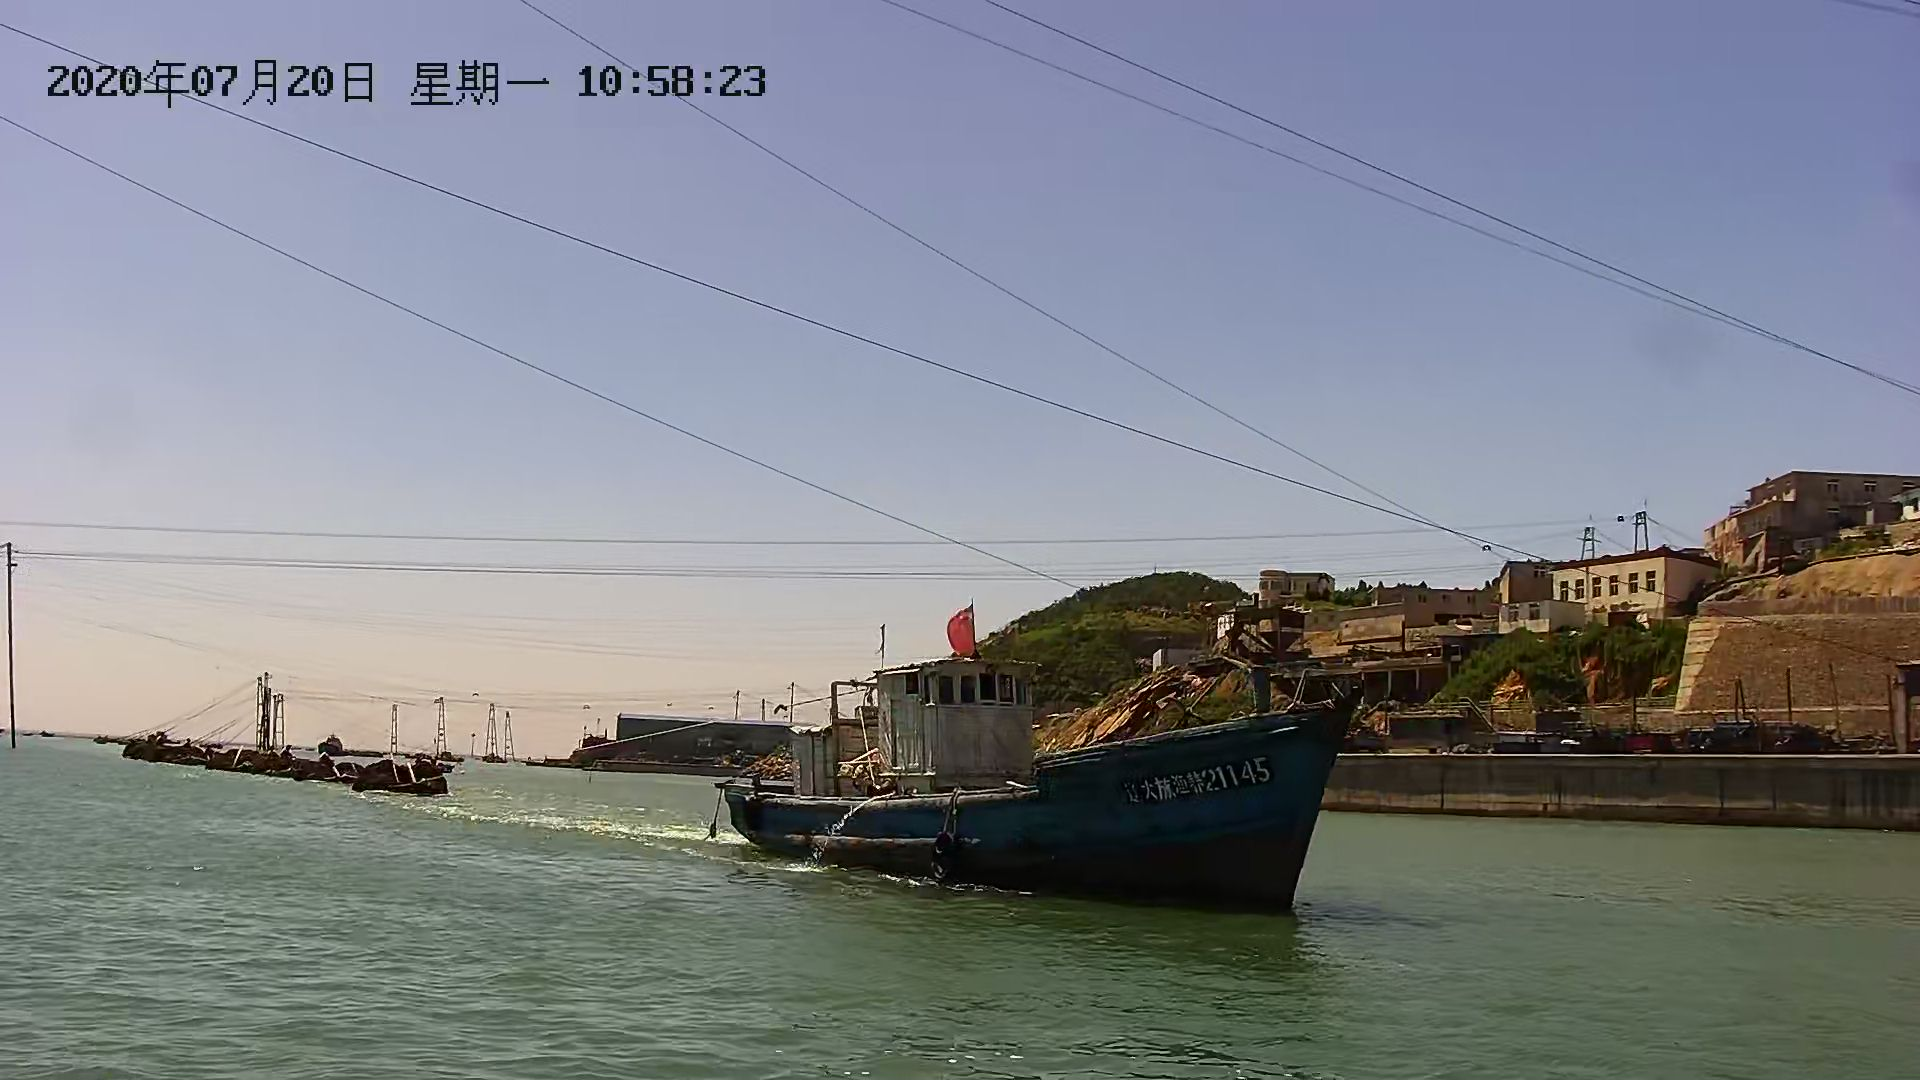mast: (1, 539, 24, 750)
rubbish: (124, 729, 454, 806)
ship: (711, 647, 1366, 939)
